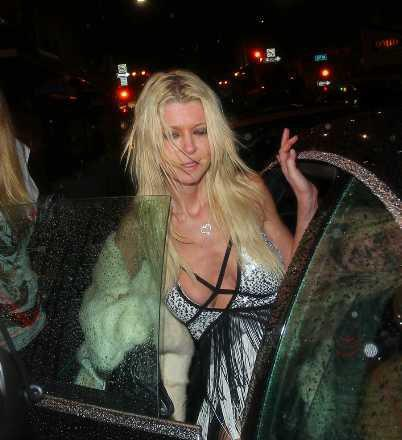Drunk: (158, 100, 214, 183)
